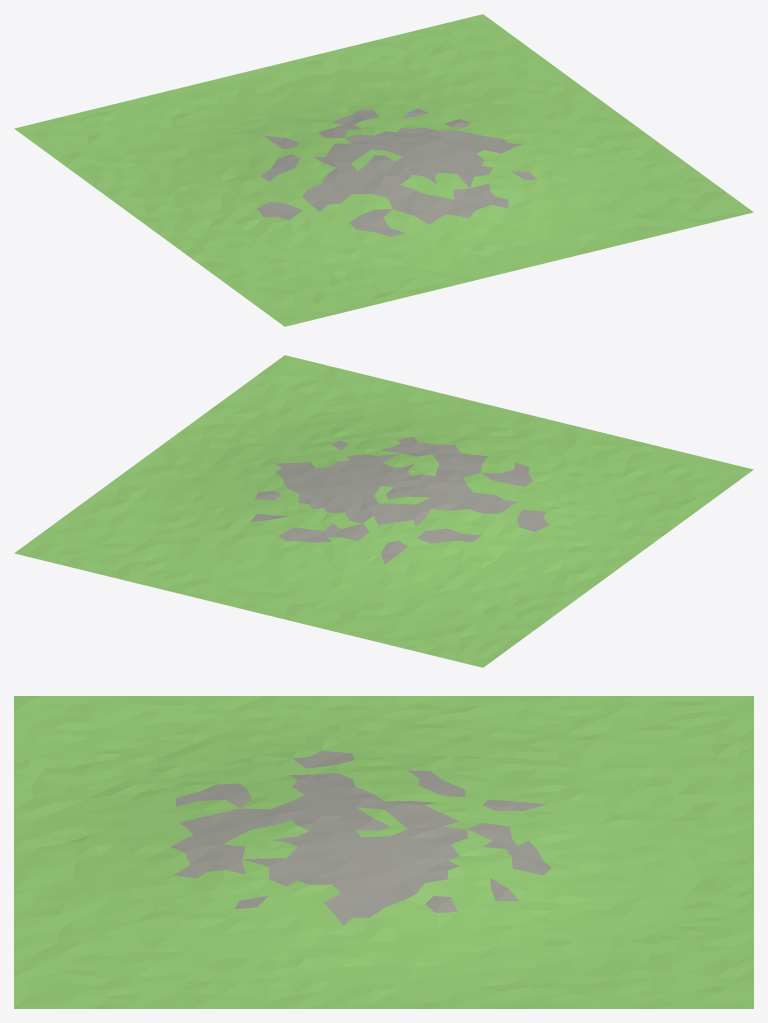
Rendered from terrain1.fbx.
The picture shows the model from 3 angles, top to bottom: view 1: azimuth 30°, elevation 25°; view 2: azimuth 150°, elevation 25°; view 3: azimuth 270°, elevation 25°; orthographic projection. The views are drawn at different scales.
Visible parts, largest first — view 1: CPT_Terrain_L_b_03; view 2: CPT_Terrain_L_b_03; view 3: CPT_Terrain_L_b_03.
Part boxes in pixels (x1,y1,x2,y2): CPT_Terrain_L_b_03: (14, 14, 753, 326); CPT_Terrain_L_b_03: (14, 355, 753, 667); CPT_Terrain_L_b_03: (14, 696, 753, 1008).
Bounding box in the file's own units: 10001 × 10000 × 351.
Materials: 1 (1 with a texture image).
